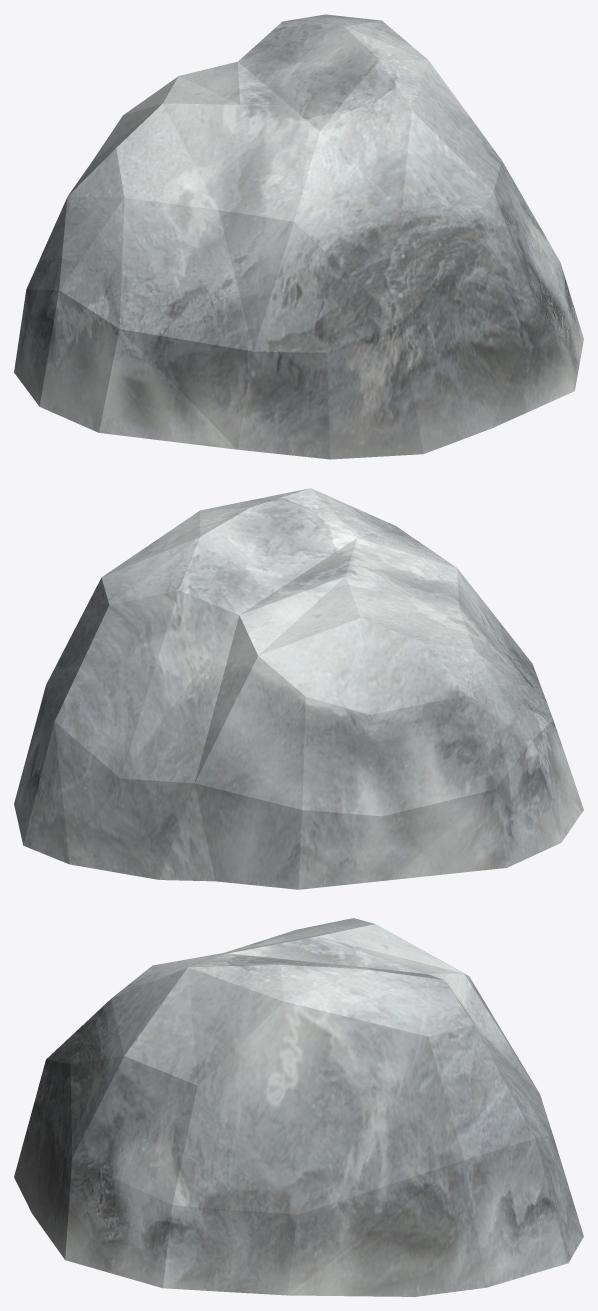
Rendered from mp_boulder_snow_large_00.obj.
3 views of the same model, one above another, from view 1: azimuth 30°, elevation 25°; view 2: azimuth 150°, elevation 25°; view 3: azimuth 270°, elevation 25° (orthographic). The views are drawn at different scales.
Parts seen in each view (by area): view 1: boulder; view 2: boulder; view 3: boulder.
Part boxes in pixels (<box>): boulder: <box>14,14,583,459</box>; boulder: <box>14,488,583,889</box>; boulder: <box>14,918,583,1296</box>.
Size of the model in its own units: 213 by 110 by 222.
